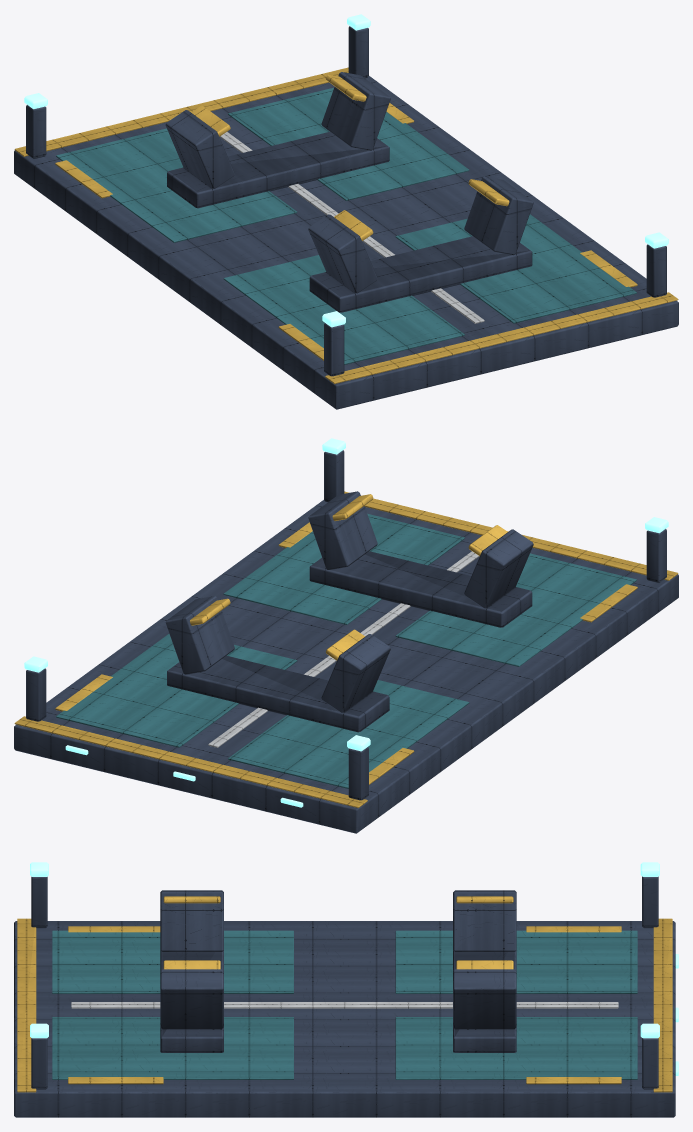
The model's file is pad.glb.
3 renders of one model, top to bottom at view 1: azimuth 30°, elevation 25°; view 2: azimuth 150°, elevation 25°; view 3: azimuth 270°, elevation 25°, orthographic. The views are drawn at different scales.
Parts seen in each view (by area): view 1: DL014_DockingPad_graphite_navy, DL014_DockingPad_teal_shell, DL014_DockingPad_amber_accent, DL014_DockingPad_hull_offwhite, DL014_DockingPad_emissive_cyan; view 2: DL014_DockingPad_graphite_navy, DL014_DockingPad_teal_shell, DL014_DockingPad_amber_accent, DL014_DockingPad_hull_offwhite, DL014_DockingPad_emissive_cyan; view 3: DL014_DockingPad_graphite_navy, DL014_DockingPad_teal_shell, DL014_DockingPad_amber_accent, DL014_DockingPad_hull_offwhite, DL014_DockingPad_emissive_cyan.
Boxes of the visible parts, x1,y1,x2,y2 form: DL014_DockingPad_graphite_navy: (14,26,678,409); DL014_DockingPad_teal_shell: (56,87,636,364); DL014_DockingPad_amber_accent: (14,67,678,383); DL014_DockingPad_hull_offwhite: (220,132,484,323); DL014_DockingPad_emissive_cyan: (24,14,668,327); DL014_DockingPad_graphite_navy: (14,450,678,833); DL014_DockingPad_teal_shell: (56,513,636,788); DL014_DockingPad_amber_accent: (14,491,678,807); DL014_DockingPad_hull_offwhite: (208,551,479,747); DL014_DockingPad_emissive_cyan: (24,438,668,807); DL014_DockingPad_graphite_navy: (14,876,675,1117); DL014_DockingPad_teal_shell: (52,930,637,1079); DL014_DockingPad_amber_accent: (17,896,672,1092); DL014_DockingPad_hull_offwhite: (71,1002,618,1008); DL014_DockingPad_emissive_cyan: (30,862,678,1075).
Bounding box in the file's own units: 6.4 × 1.79 × 10.45.
Materials: 5 (4 with a texture image).
